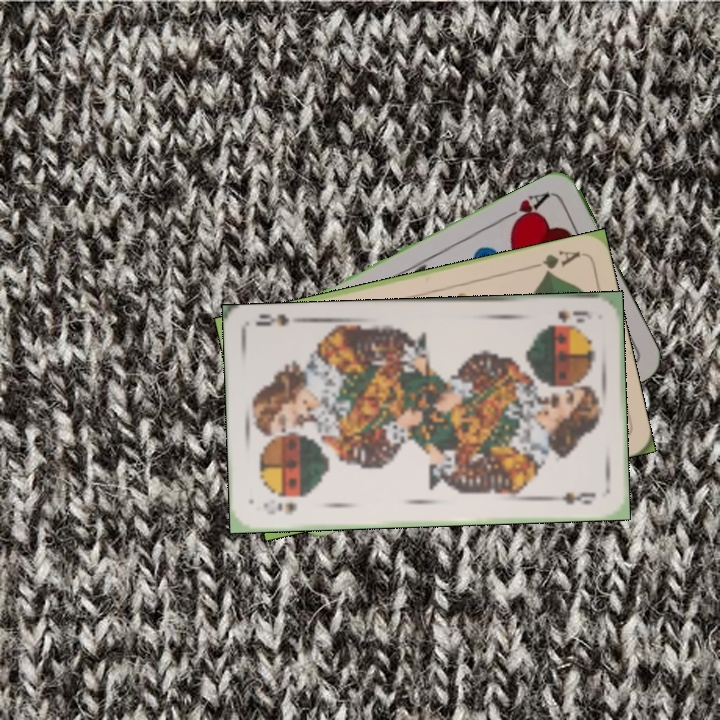GA: (525, 246, 583, 278)
HA: (499, 187, 553, 230)
SO: (543, 306, 593, 328), (259, 498, 300, 517)
